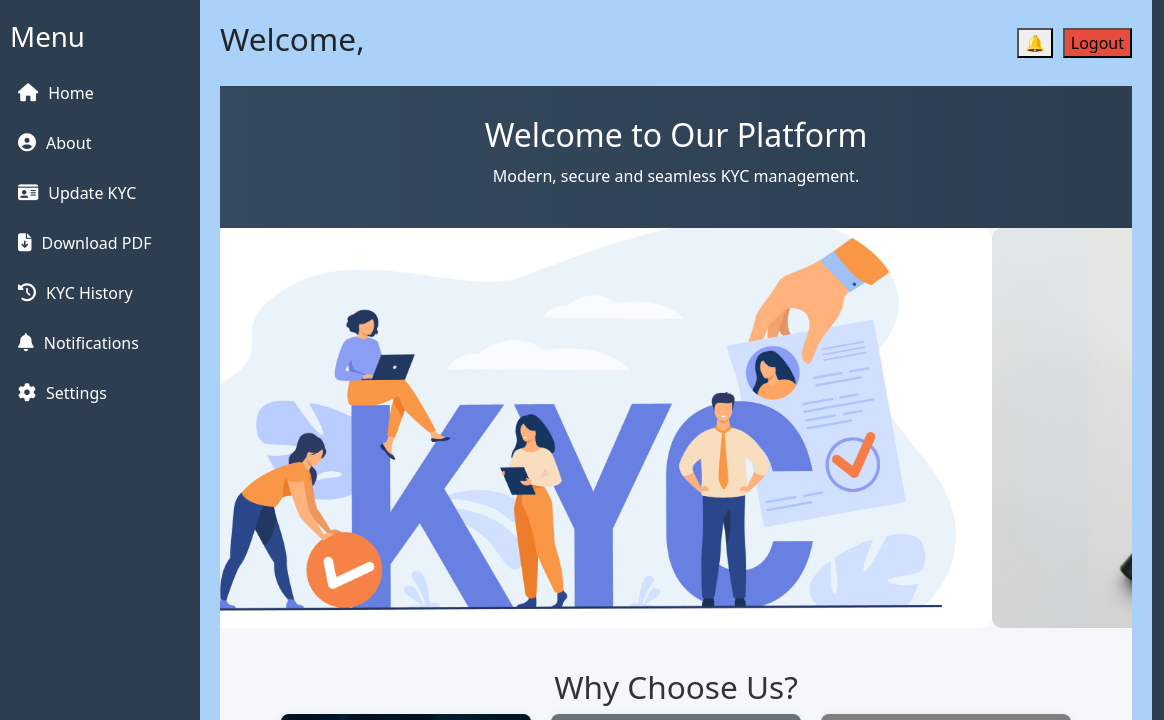
Test: Dashboard.vue › shows notification panel when bell is clicked
The width and height of the screenshot is (1164, 720).
Click the button "🔔".
click(1035, 43)  # box left=1017, top=28, right=1053, bottom=58
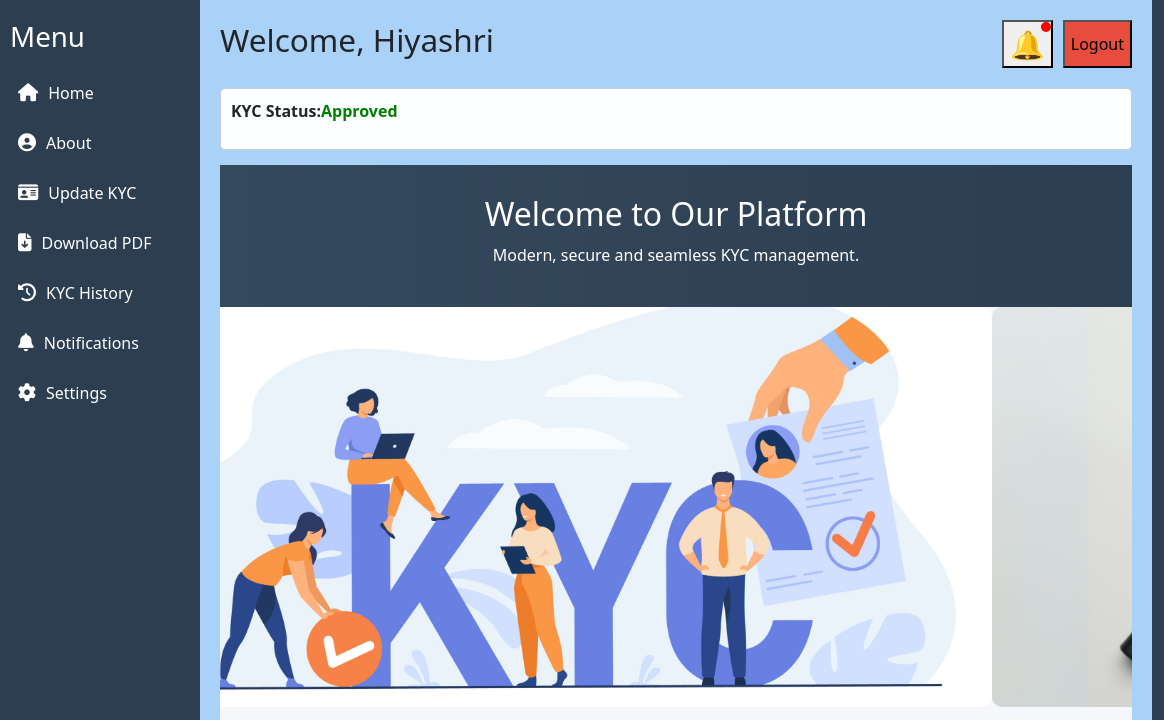
Expected: the element with class "notification-panel" is shown, left=220, top=88, right=1132, bottom=150
Expected: the text "KYC Status:" is shown, left=231, top=100, right=321, bottom=122
